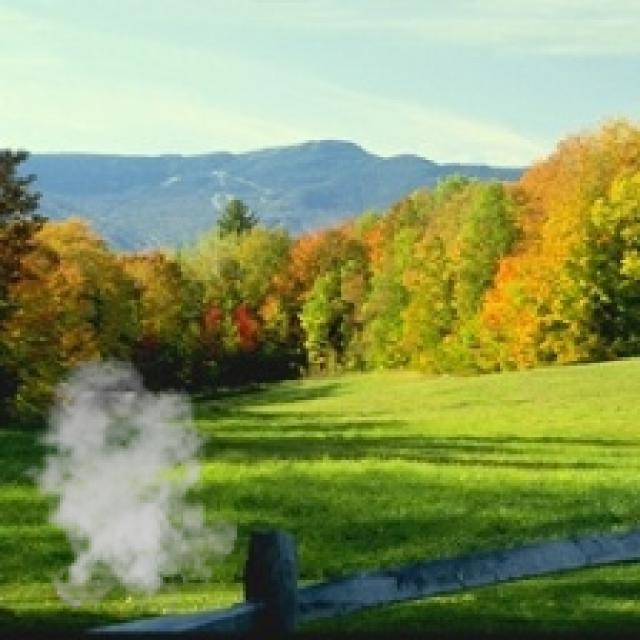Smoke: (11, 354, 238, 614)
